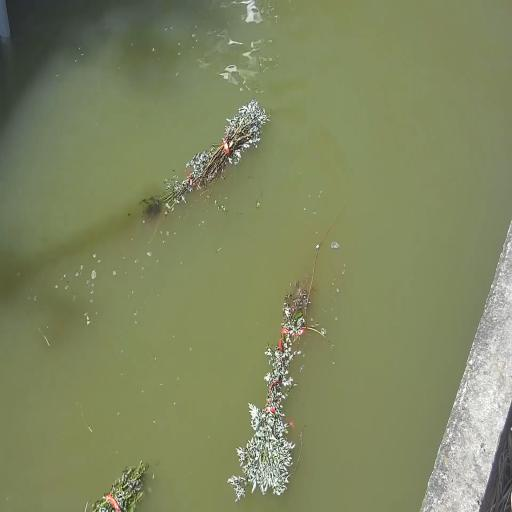twig: (228, 201, 349, 500), (142, 100, 268, 216), (92, 461, 148, 511)
